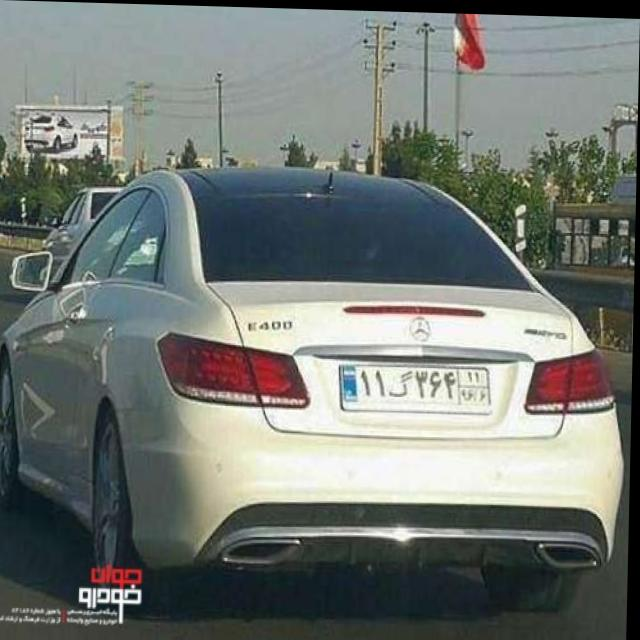licence: (334, 360, 493, 409)
